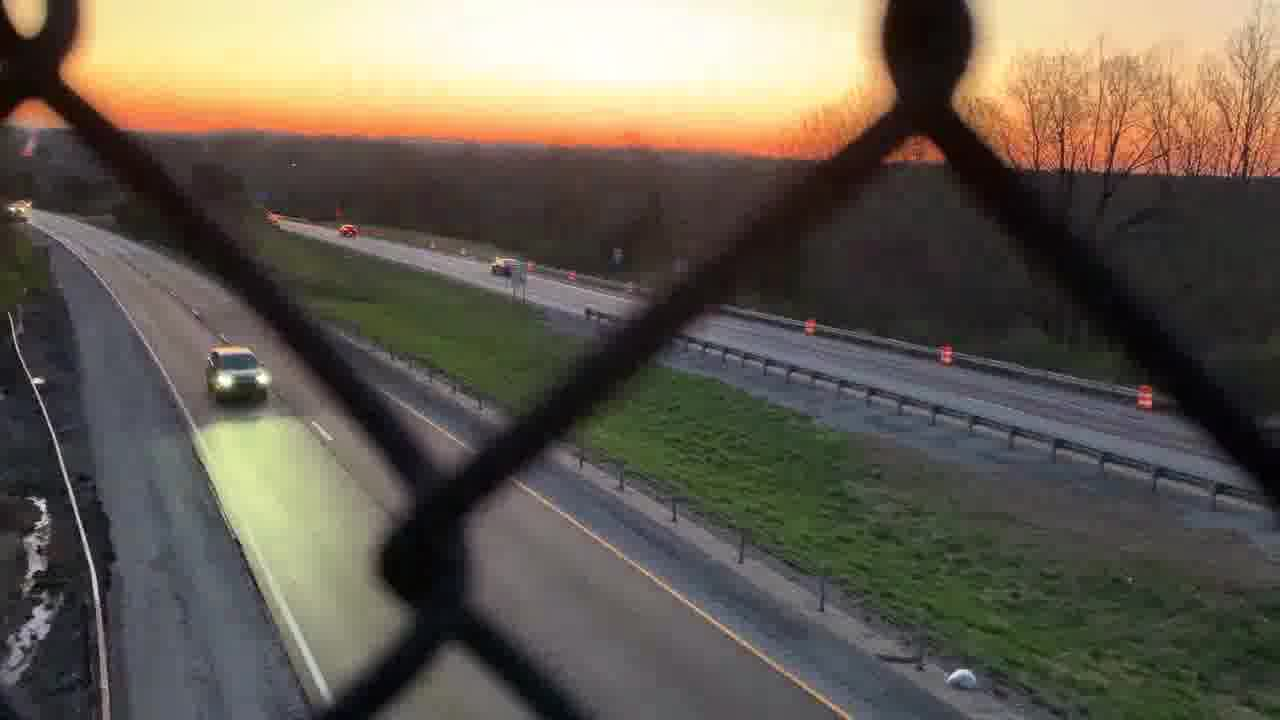largeCar: (206, 347, 274, 405)
